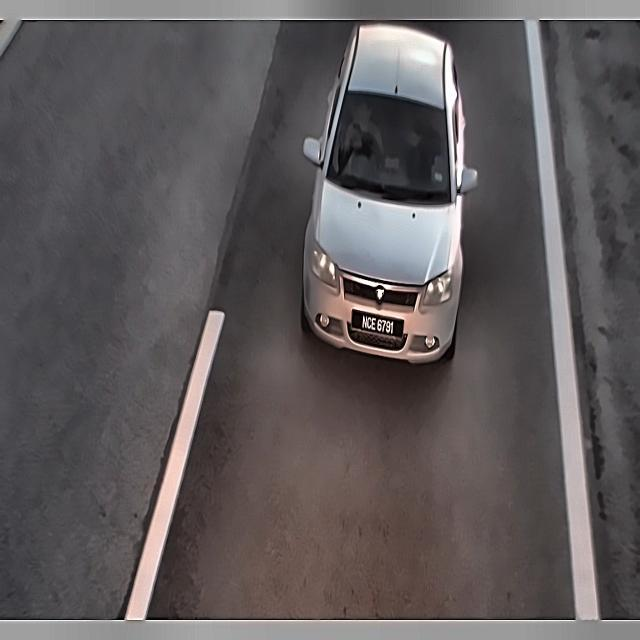car: (347, 303, 410, 347)
